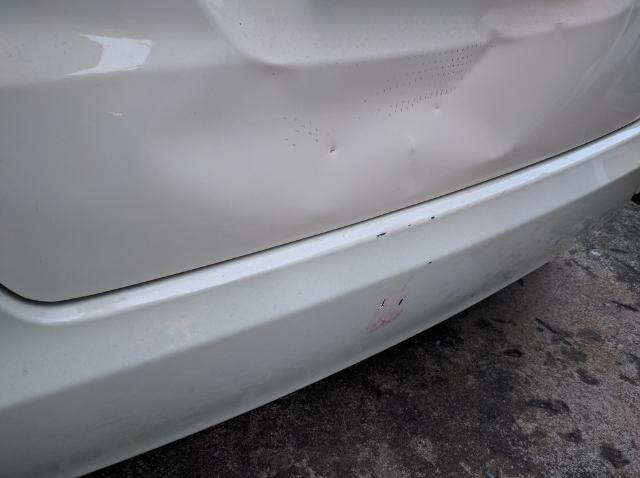dent: (136, 7, 638, 216)
